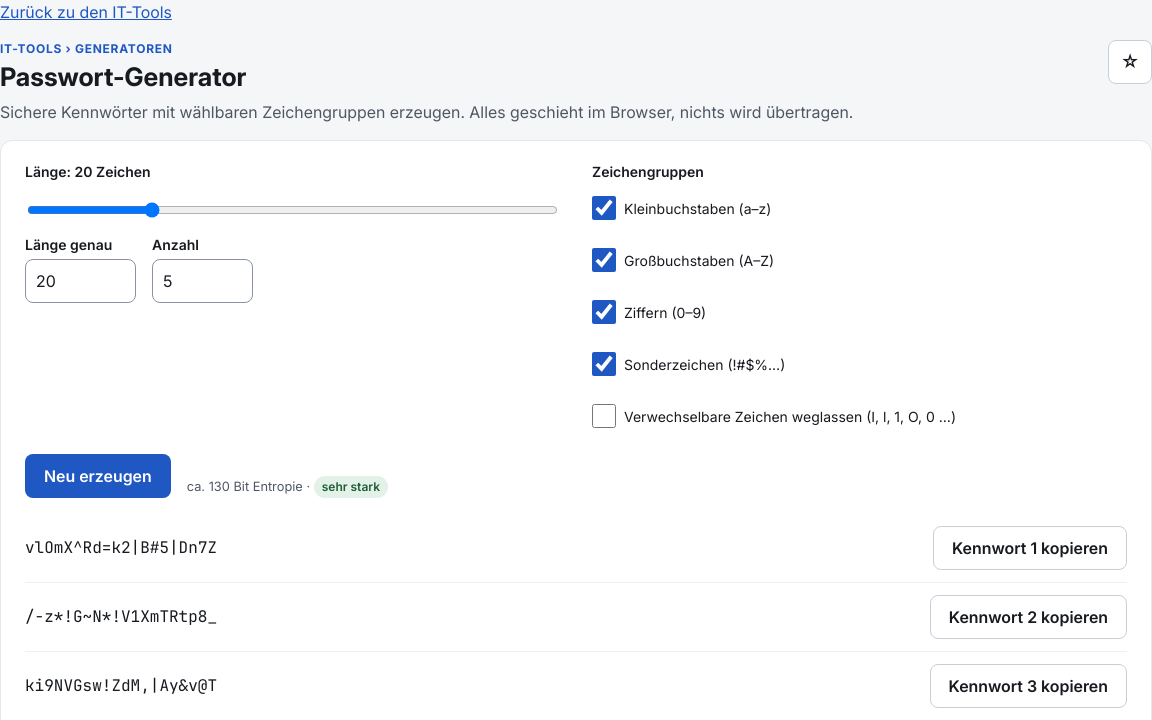
Test: ToolPage › Passwort: erzeugt Kennwörter nach den Einstellungen, ohne sie in die Adresse zu schreiben
The width and height of the screenshot is (1152, 720).
Replace the text in the number field labelled "Länge genau" with "32": (80,281) top-left (25, 259), bottom-right (136, 303)
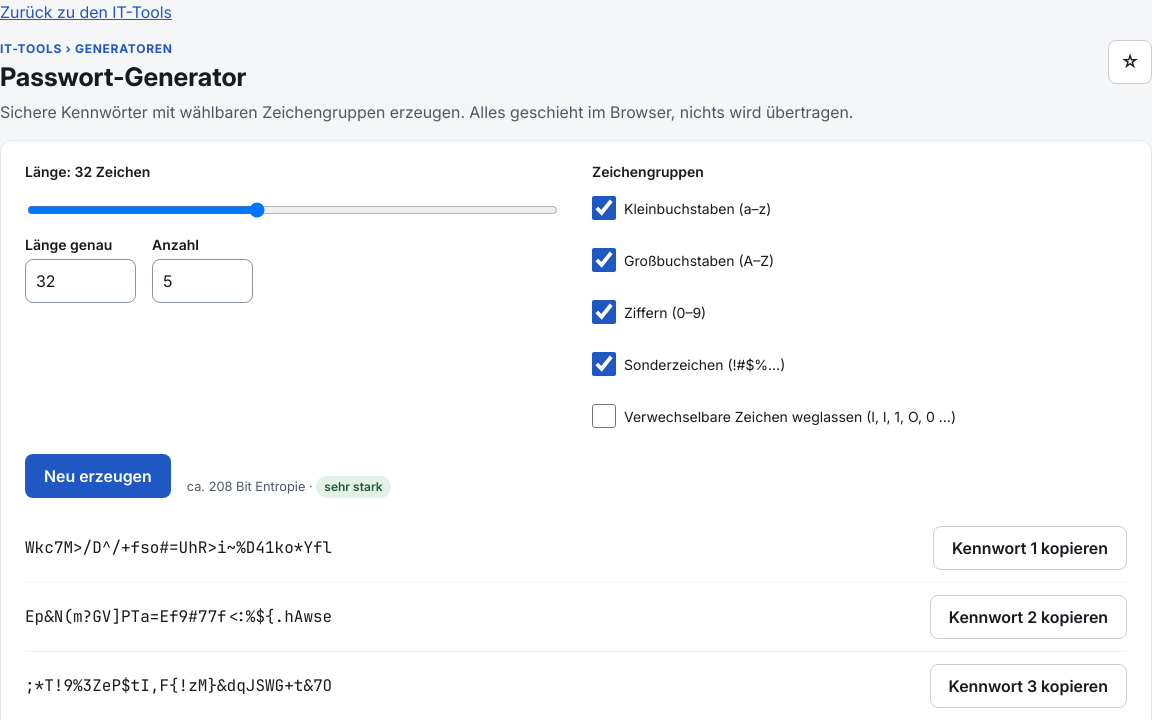
Click the checkbox labelled "Sonderzeichen (!#$%…)": (604,364) top-left (592, 352), bottom-right (616, 376)
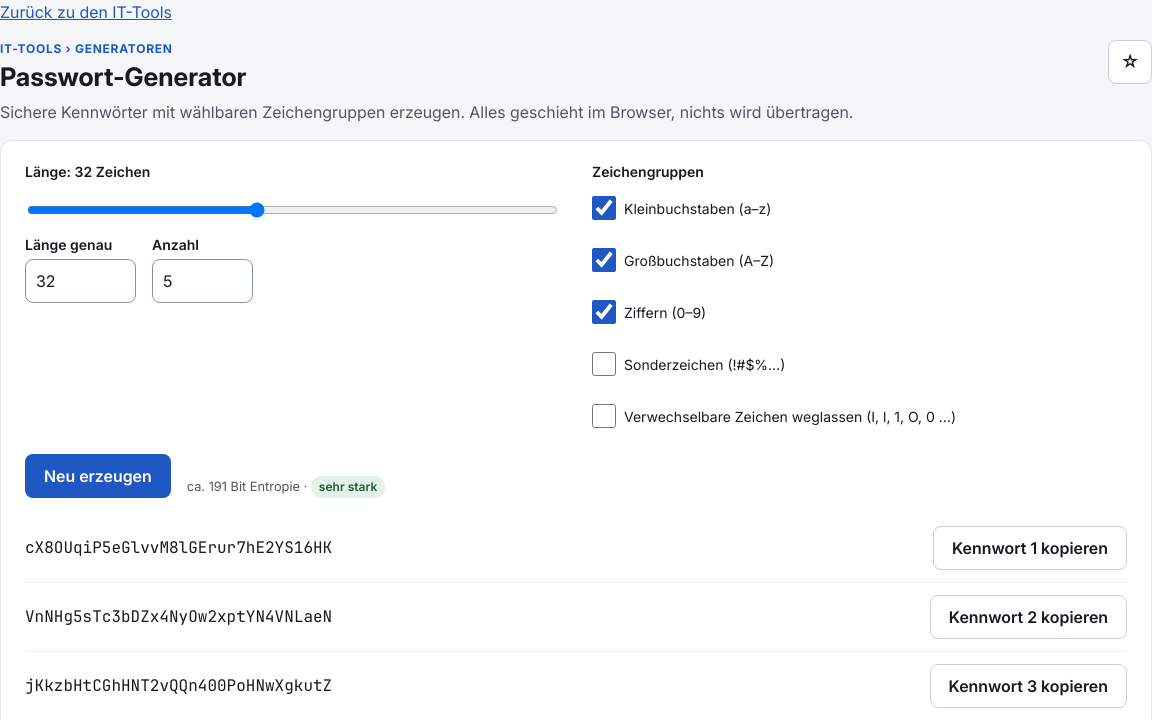
Click the checkbox labelled "Kleinbuchstaben (a–z)": (604,208) top-left (592, 196), bottom-right (616, 220)
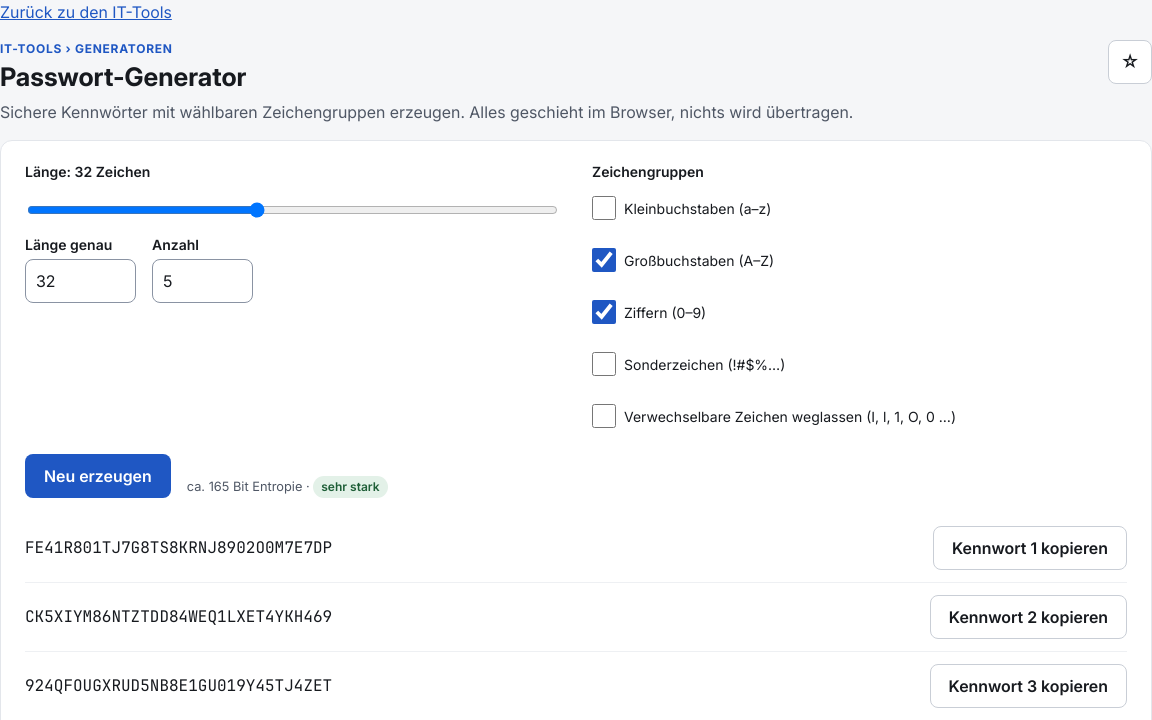
Click the checkbox labelled "Großbuchstaben (A–Z)": (604,260) top-left (592, 248), bottom-right (616, 272)
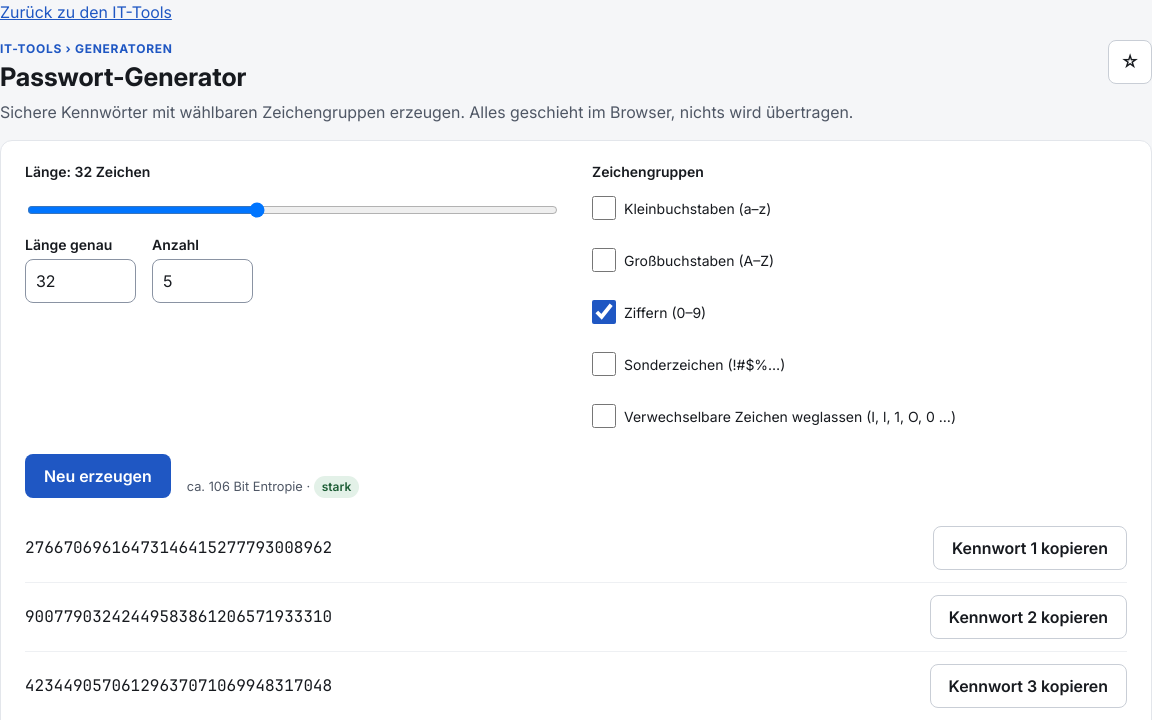
Click the checkbox labelled "Ziffern (0–9)": (604,312) top-left (592, 300), bottom-right (616, 324)
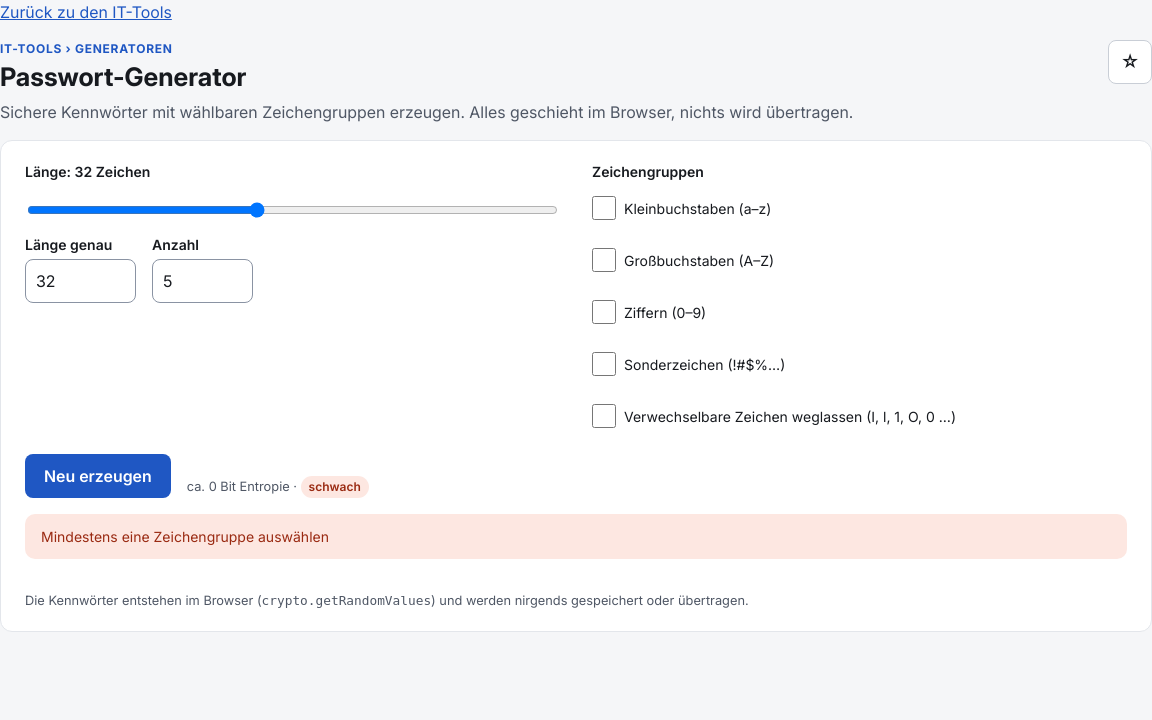
Check: the message shows "Mindestens eine Zeichengruppe", box top-left (41, 528), bottom-right (329, 545)
